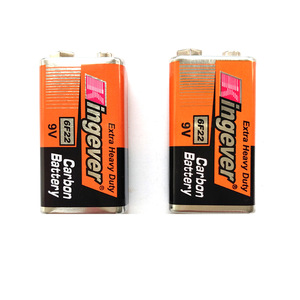9V: (166, 47, 257, 217), (38, 51, 130, 218)
